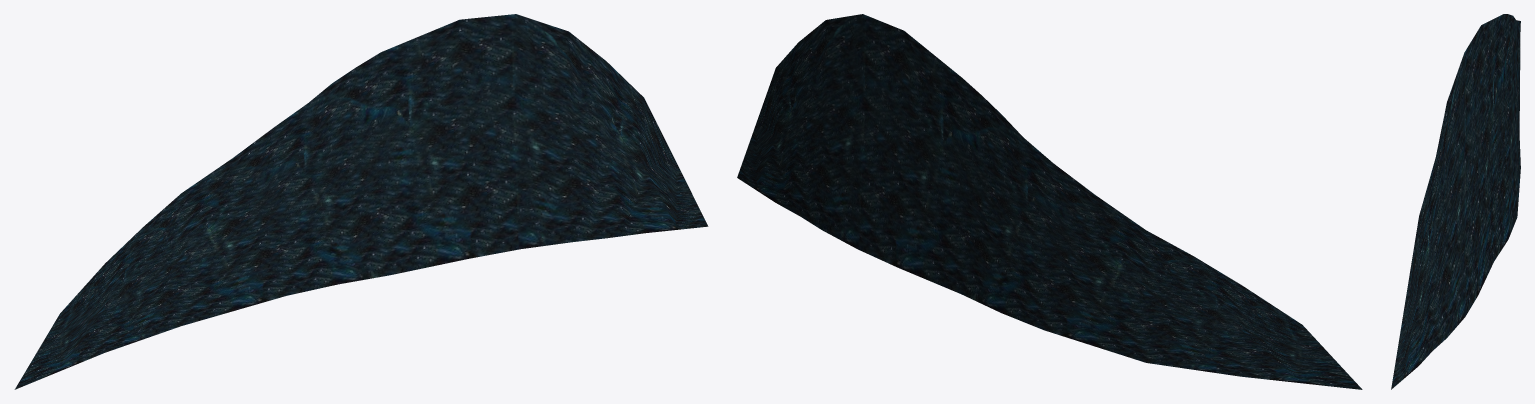
Rendered from shan11.fbx.
3 renders of one model, left to right at view 1: azimuth 30°, elevation 25°; view 2: azimuth 150°, elevation 25°; view 3: azimuth 270°, elevation 25°, orthographic. The views are drawn at different scales.
Visible parts, largest first — view 1: shan11; view 2: shan11; view 3: shan11.
Boxes of the visible parts, box(x1,y1,x2,y2) form: shan11: box(14, 14, 708, 389); shan11: box(737, 14, 1362, 389); shan11: box(1391, 14, 1520, 389).
Size of the model in its own units: 22.55 by 8.36 by 3.47.
